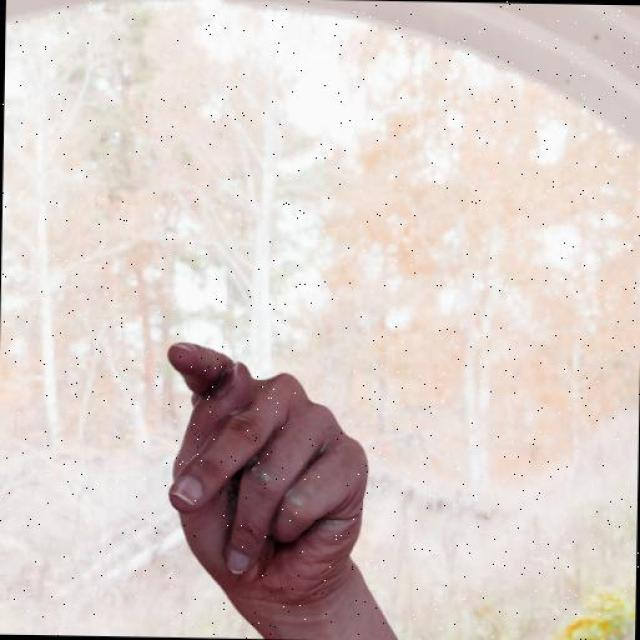P: (136, 309, 414, 615)
